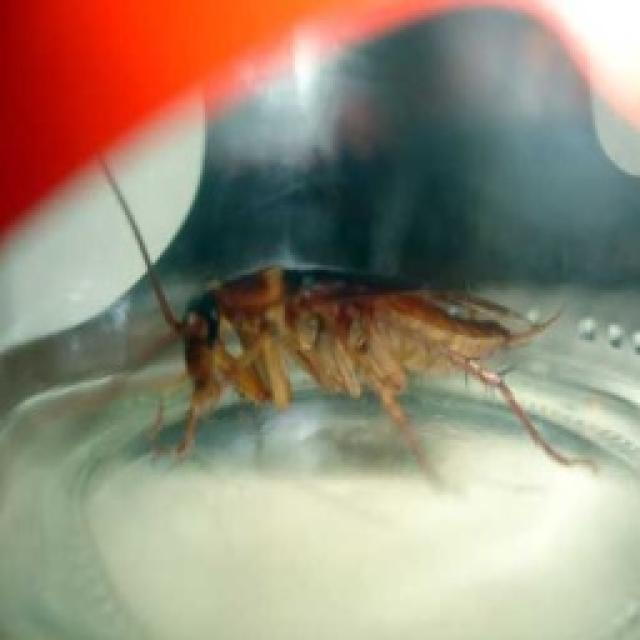cockroach: (87, 145, 587, 492)
